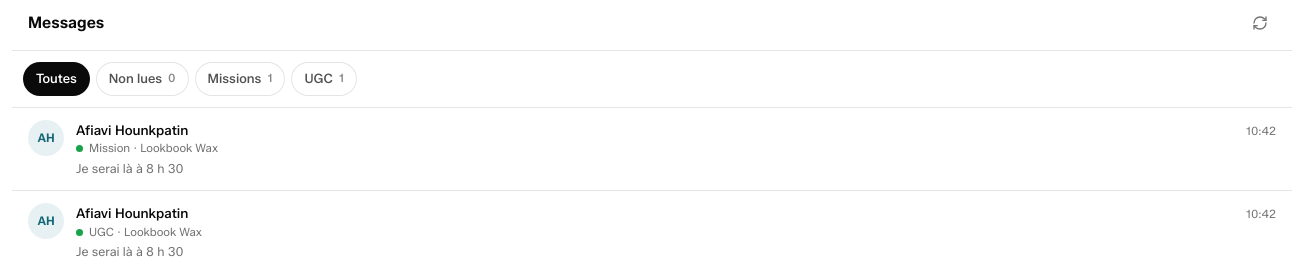
Test: ConversationListPane — filtres › filtre sur le type de contexte et gère le filtre vide
The image size is (1304, 274).
Click the button with test id "r-pill" at (324,79), box [292,63,356,95]
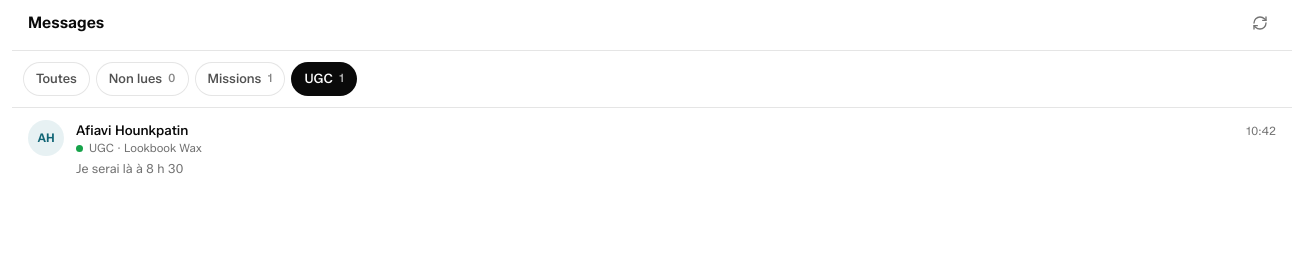
Expected: the number of buttons with test id "conversation-item" is 1, [12,108,1292,190]
Click the button with test id "r-pill" at (142,79), box [97,63,188,95]
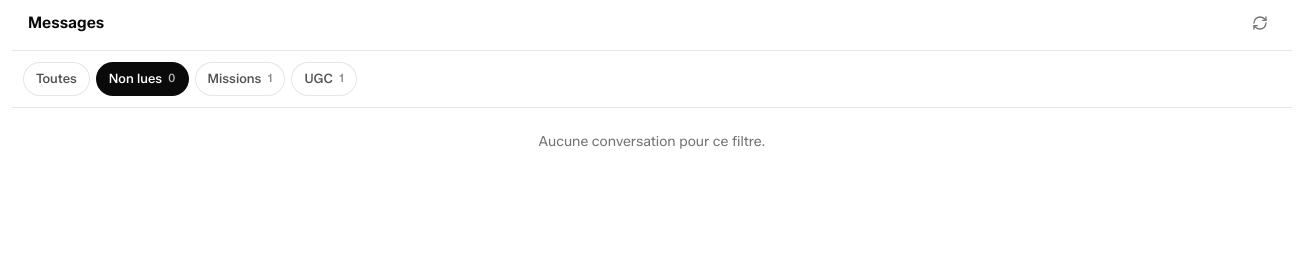
Expected: the text "Aucune conversation pour ce filtre." is shown, [538,133,766,150]
